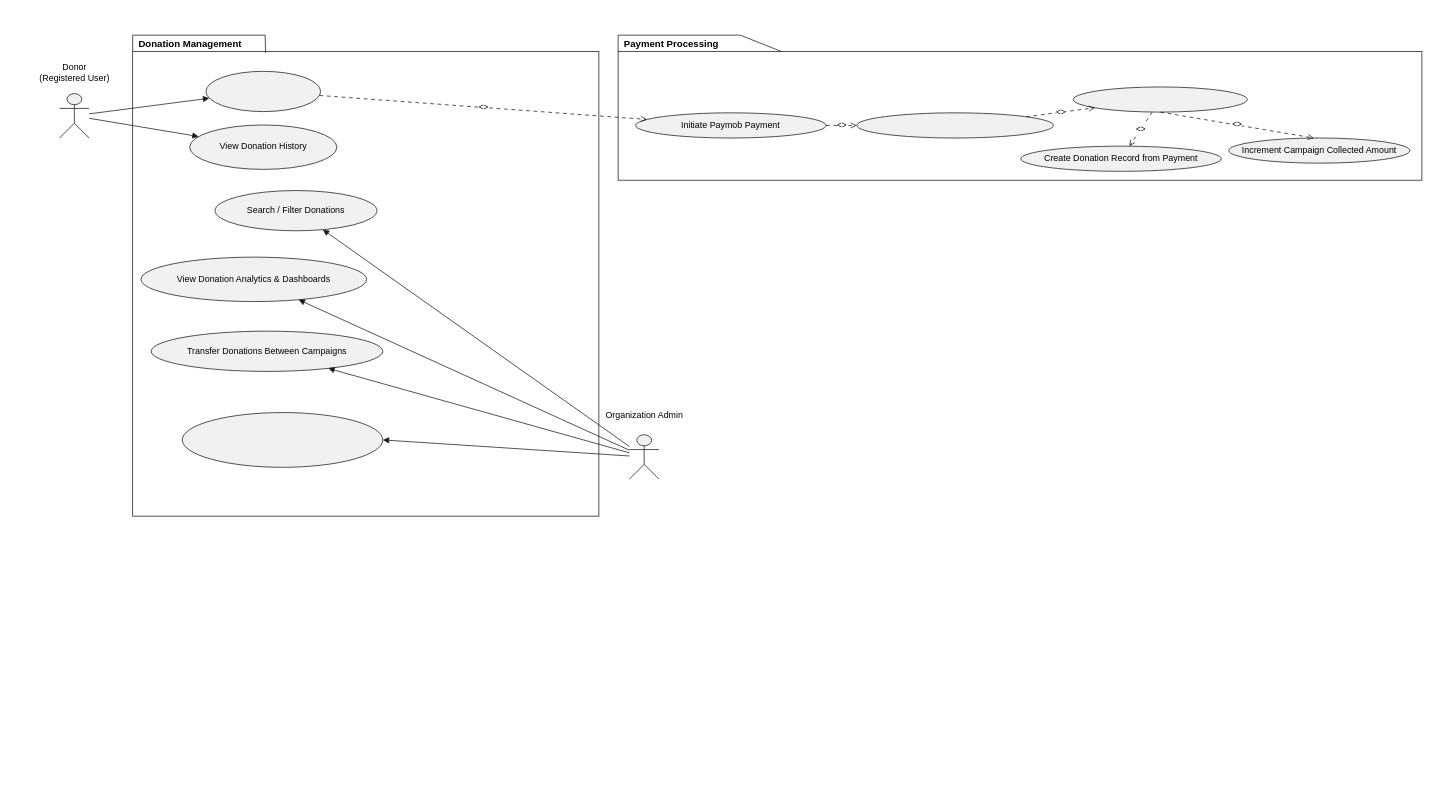
Image size: 1442x810. Some labels were removed from this diagram. The shapes that lost their labels are listed below. From the top down, each one's centre as x and y in pixels, then its label:
point 263,91: Make Donation
point 1160,99: Verify HMAC Signature
point 954,125: Process Paymob Callback
point 282,439: Manage Donation Records (CRUD)
